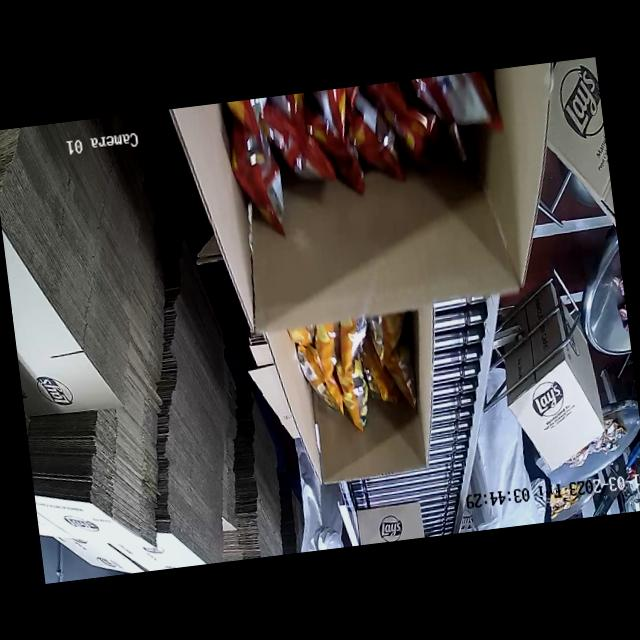cheese: (291, 304, 414, 434)
masala: (219, 69, 510, 226)
